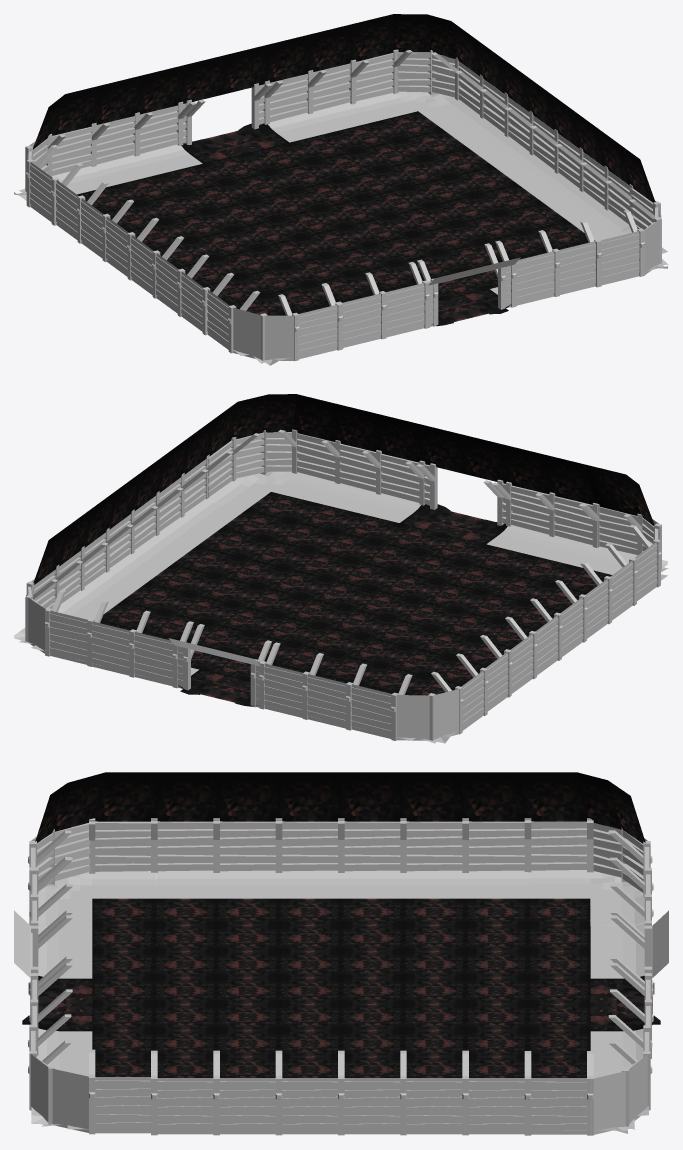
The model's file is roomFull1.fbx.
The picture shows the model from 3 angles, top to bottom: view 1: azimuth 30°, elevation 25°; view 2: azimuth 150°, elevation 25°; view 3: azimuth 270°, elevation 25°; orthographic projection. The views are drawn at different scales.
Visible parts, largest first — view 1: flatFloor&Ceiling.003, Plane.005, WallTurn.004, WallTurn.001, WallTurn.002, WallTurn.003, WallDiverge, WallDiverge.001, WallL.020, WallL.019, WallL.023, WallL.024 (+16 smaller); view 2: flatFloor&Ceiling.003, Plane.005, WallTurn.003, WallTurn.002, WallTurn.004, WallTurn.001, WallDiverge.001, WallDiverge, WallL.014, WallL.017, WallL.018, WallL.013 (+16 smaller); view 3: flatFloor&Ceiling.003, Plane.005, WallTurn.001, WallTurn.002, WallTurn.004, WallTurn.003, WallL.012, WallL.002, WallL.001, WallL.003, WallL.005, WallL.004 (+16 smaller).
Part boxes in pixels (x1,y1,x2,y2): flatFloor&Ceiling.003: (77,111,588,315); Plane.005: (33,14,655,202); WallTurn.004: (349,49,485,129); WallTurn.001: (207,283,342,365); WallTurn.002: (14,127,115,225); WallTurn.003: (580,188,668,287); WallDiverge: (408,243,520,328); WallDiverge.001: (176,83,288,163); WallL.020: (133,105,202,174); WallL.019: (90,116,158,184); WallL.023: (263,74,332,142); WallL.024: (306,63,375,131); flatFloor&Ceiling.003: (100,492,611,695); Plane.005: (33,394,654,584); WallTurn.003: (207,429,341,509); WallTurn.002: (351,653,488,743); WallTurn.004: (14,561,108,666); WallTurn.001: (573,503,668,600); WallDiverge.001: (168,624,280,709); WallDiverge: (400,463,512,544); WallL.014: (487,485,555,554); WallL.017: (356,454,425,522); WallL.018: (313,443,382,512); WallL.013: (530,496,597,565); flatFloor&Ceiling.003: (92,898,590,1077); Plane.005: (35,772,645,843); WallTurn.001: (28,818,156,925); WallTurn.002: (524,818,652,925); WallTurn.004: (524,1015,652,1135); WallTurn.003: (28,1014,150,1134); WallL.012: (462,818,528,898); WallL.002: (275,818,341,898); WallL.001: (213,818,279,898); WallL.003: (338,818,403,898); WallL.005: (400,818,465,898); WallL.004: (151,818,216,898).
Size of the model in its own units: 2012 by 388 by 2104.
